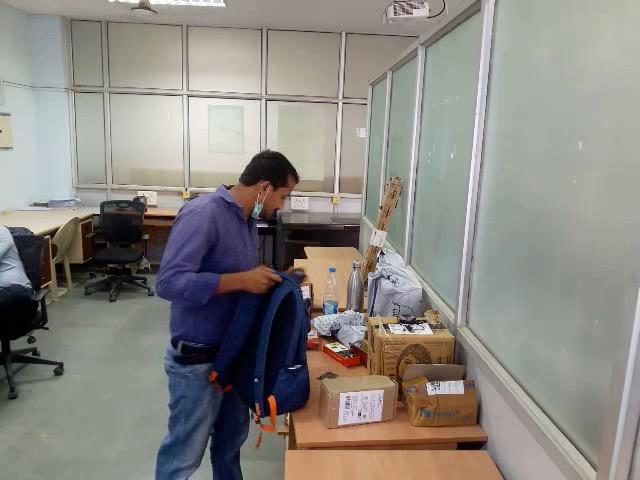shoplifting: (132, 242, 421, 417)
